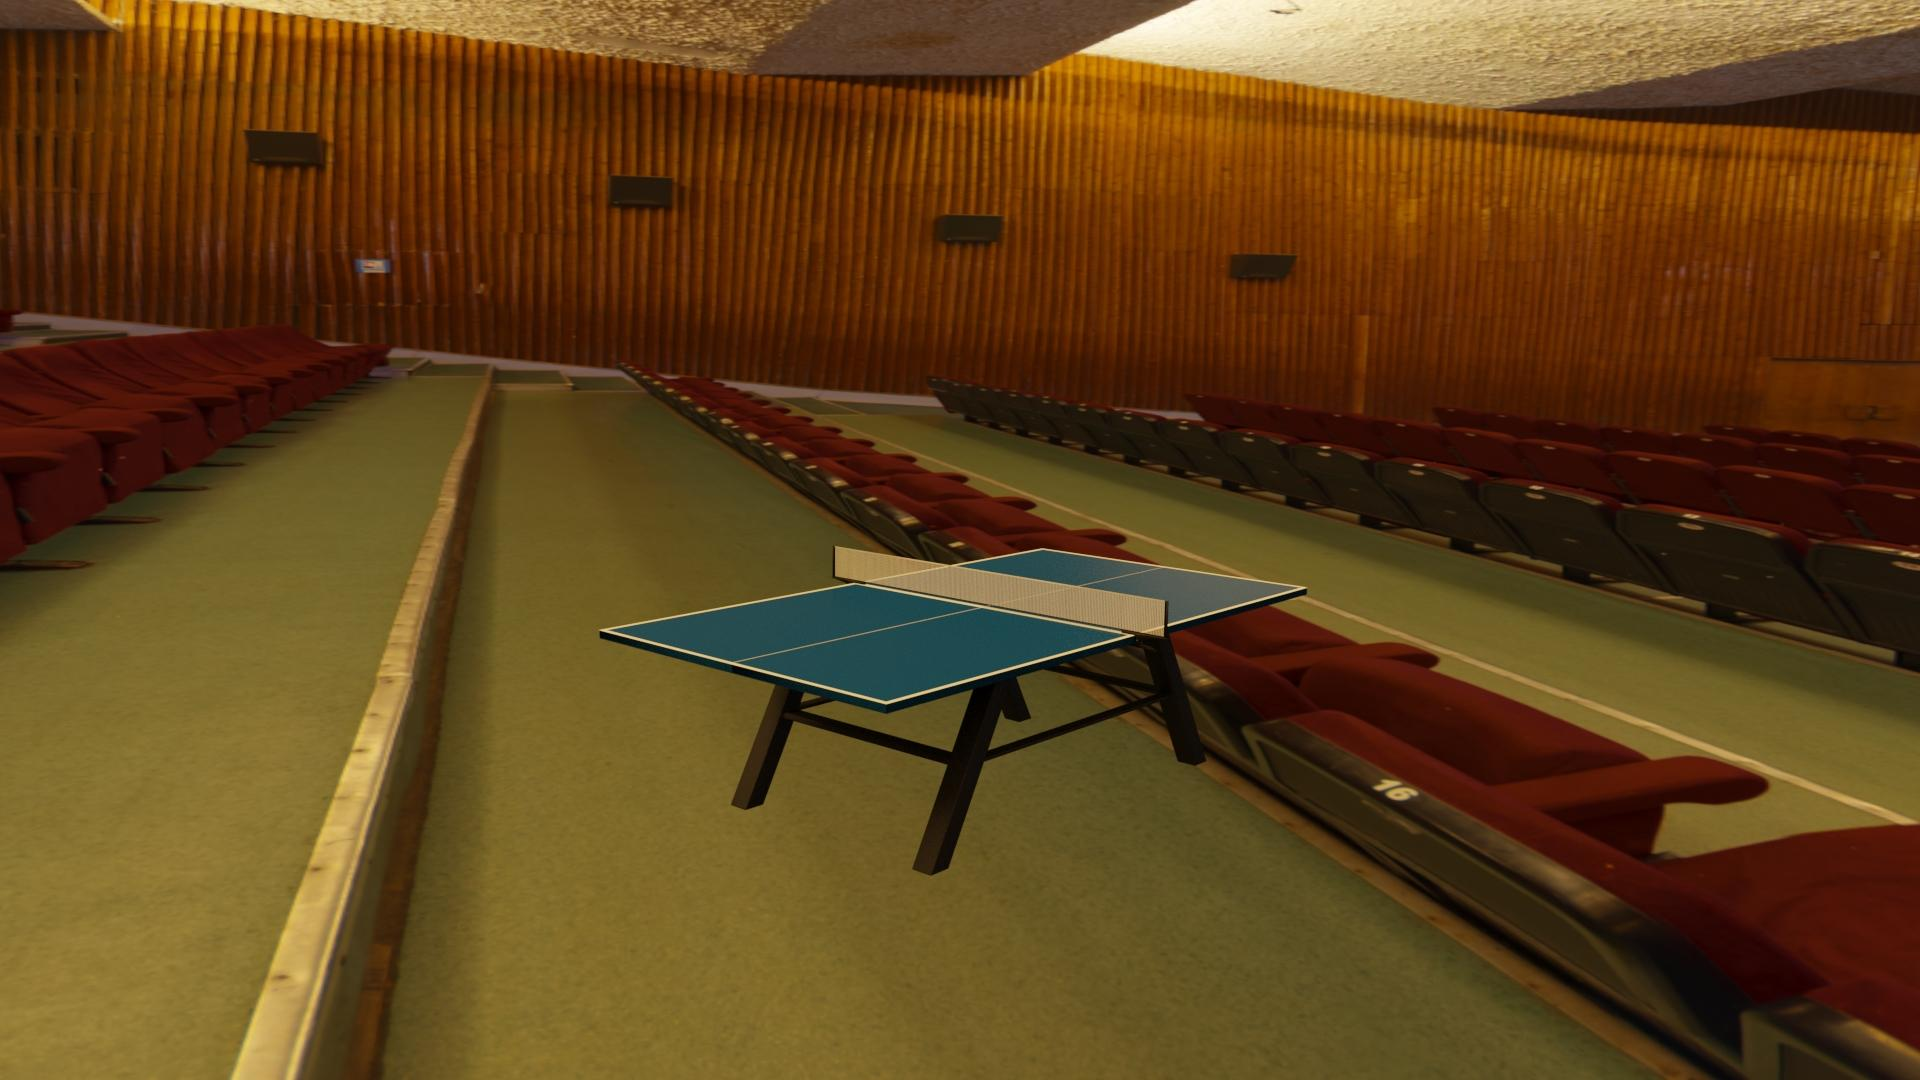table: (607, 550, 1302, 702)
